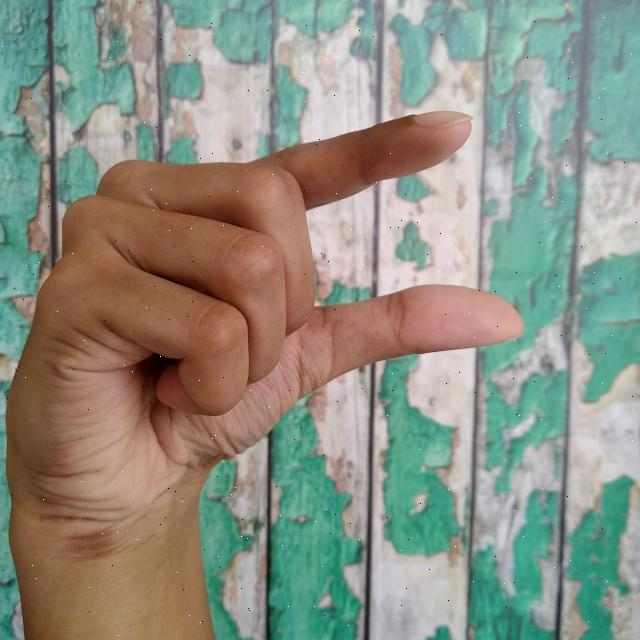G: (0, 106, 528, 640)
